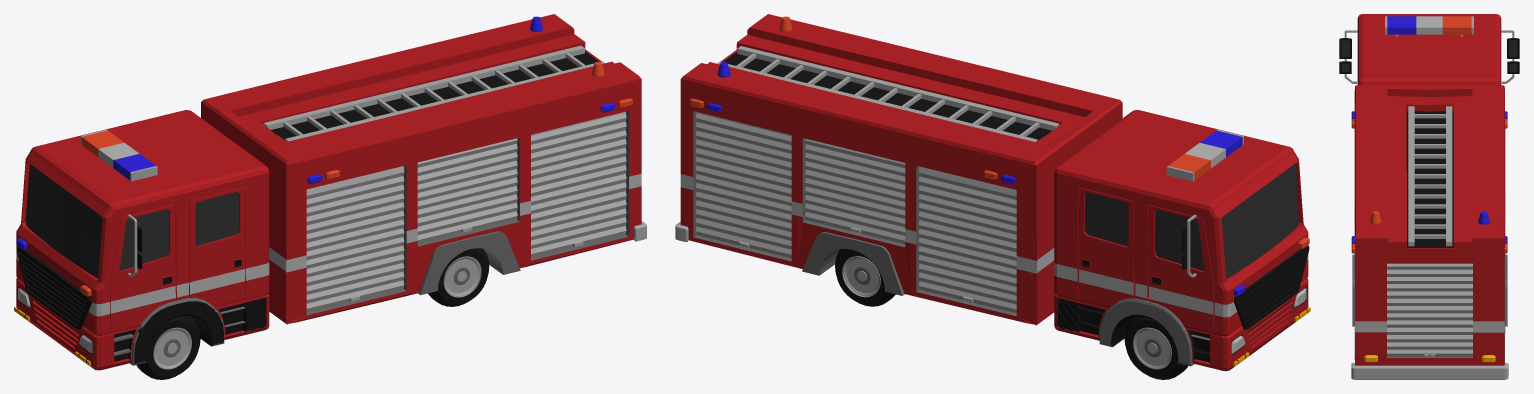
Rendered from Firefigther truck.fbx.
3 views of the same model, side by side, from view 1: azimuth 30°, elevation 25°; view 2: azimuth 150°, elevation 25°; view 3: azimuth 270°, elevation 25° (orthographic). The views are drawn at different scales.
Parts seen in each view (by area): view 1: Cube.002; view 2: Cube.002; view 3: Cube.002.
Part boxes in pixels (box(x1,y1,x2,y2)): Cube.002: box(14, 14, 646, 379); Cube.002: box(675, 14, 1310, 379); Cube.002: box(1339, 14, 1519, 379).
Size of the model in its own units: 937 by 338 by 303.
